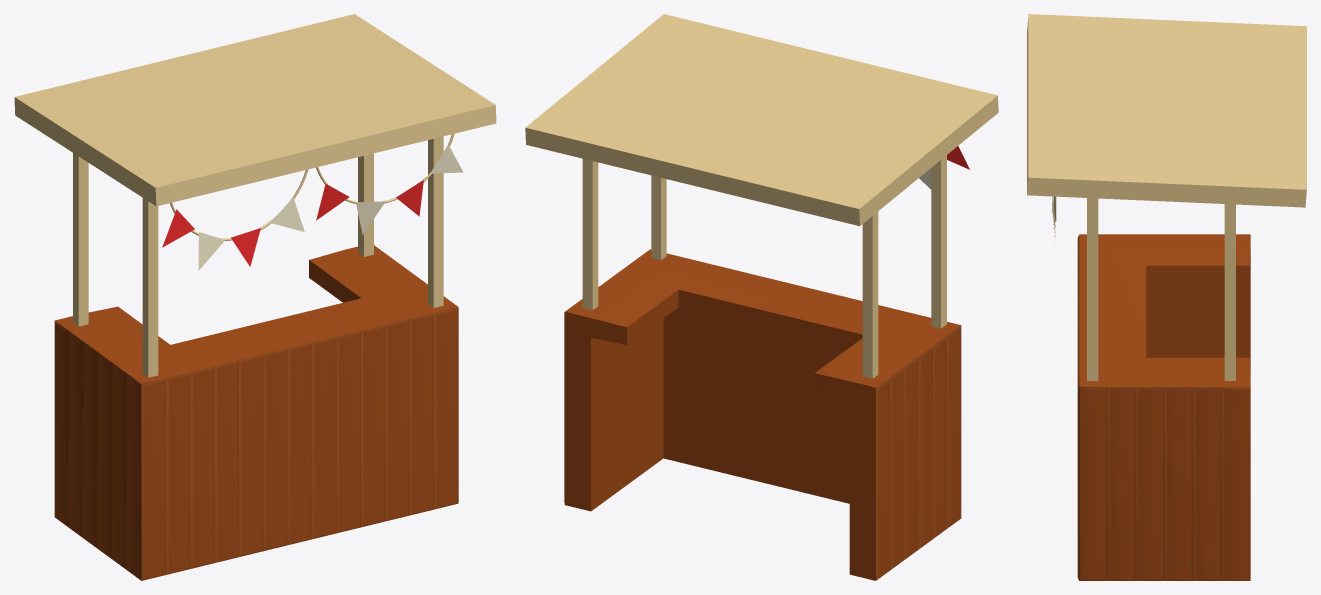
Rendered from Stall.fbx.
3 views of the same model, side by side, from view 1: azimuth 30°, elevation 25°; view 2: azimuth 150°, elevation 25°; view 3: azimuth 270°, elevation 25° (orthographic).
Parts seen in each view (by area): view 1: stall1; view 2: stall1; view 3: stall1.
Part boxes in pixels (x1=…): stall1: x1=14, y1=14, x2=496, y2=580; stall1: x1=525, y1=14, x2=998, y2=580; stall1: x1=1027, y1=14, x2=1306, y2=580.
Size of the model in its own units: 188 by 219 by 136.
